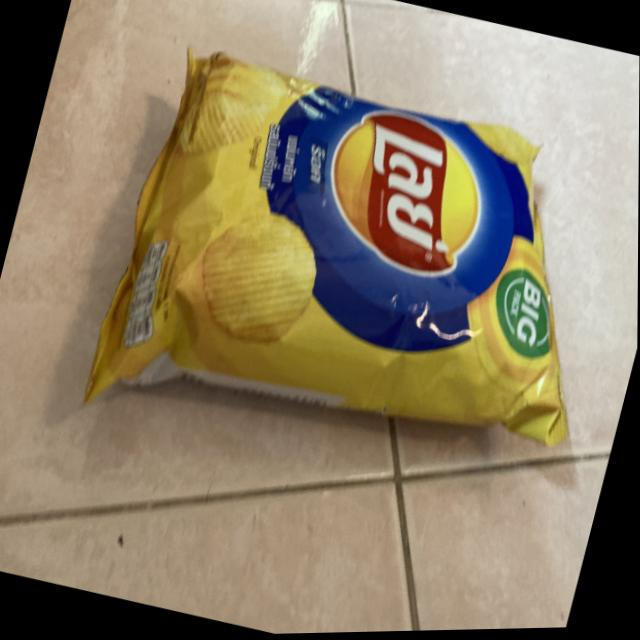LayYellow: (99, 16, 571, 496)
